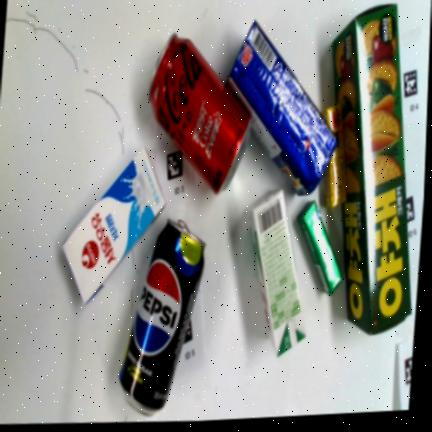can_coke_zero: (149, 34, 250, 193)
can_pepsi: (119, 219, 205, 415)
cracker_ace: (227, 21, 336, 195)
cracker_vege: (332, 5, 411, 334)
gum_green: (297, 201, 342, 295)
gum_yellow: (324, 104, 346, 206)
milk_blue: (63, 148, 166, 303)
milk_green: (251, 190, 305, 355)
